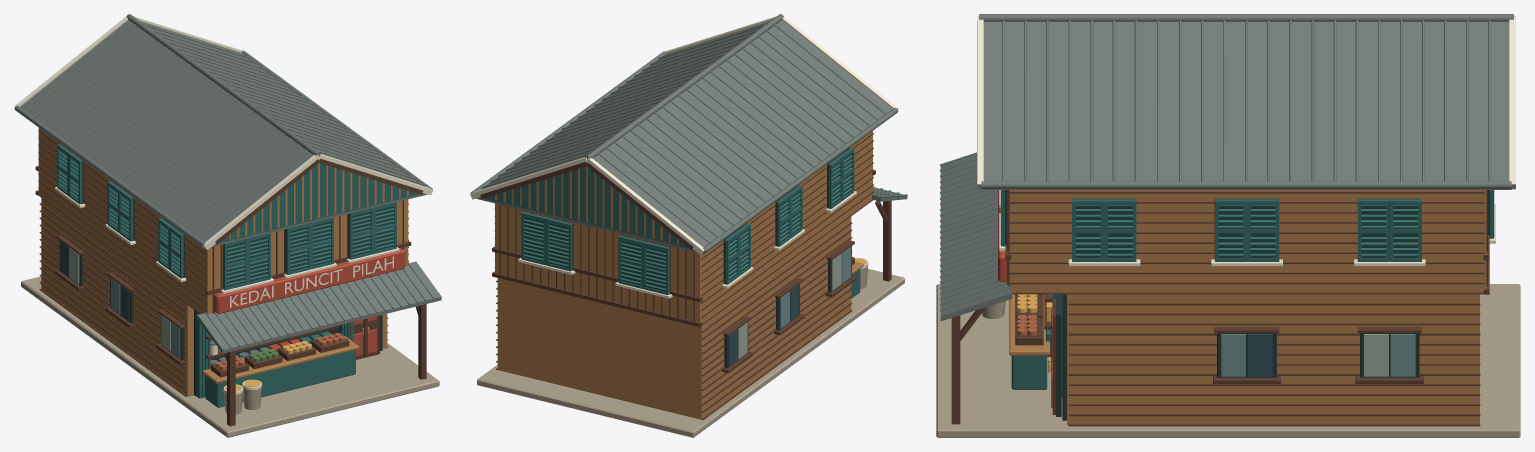
3 renders of one model, left to right at view 1: azimuth 30°, elevation 25°; view 2: azimuth 150°, elevation 25°; view 3: azimuth 270°, elevation 25°, orthographic. The views are drawn at different scales.
Visible parts, largest first — view 1: Pitched roof, Timber shop frame, Street canopy, Louvred shutters, Ground floor trade, Casements and sills, Raking bargeboards, Entrance joinery, Cast lettering; view 2: Timber shop frame, Pitched roof, Louvred shutters, Casements and sills, Raking bargeboards, Street canopy, Ground floor trade; view 3: Timber shop frame, Pitched roof, Louvred shutters, Street canopy, Casements and sills, Ground floor trade, Raking bargeboards, Entrance joinery.
Part boxes in pixels (bbox=[...]): Pitched roof: bbox=[14, 14, 432, 248]; Timber shop frame: bbox=[21, 128, 439, 437]; Street canopy: bbox=[197, 248, 441, 426]; Louvred shutters: bbox=[54, 144, 399, 293]; Ground floor trade: bbox=[194, 310, 382, 414]; Casements and sills: bbox=[55, 235, 186, 365]; Raking bargeboards: bbox=[14, 16, 433, 249]; Entrance joinery: bbox=[350, 315, 379, 359]; Cast lettering: bbox=[230, 256, 393, 307]; Timber shop frame: bbox=[477, 131, 904, 437]; Pitched roof: bbox=[470, 14, 898, 254]; Louvred shutters: bbox=[518, 147, 856, 298]; Casements and sills: bbox=[722, 240, 856, 373]; Raking bargeboards: bbox=[470, 16, 898, 254]; Street canopy: bbox=[872, 186, 907, 281]; Ground floor trade: bbox=[851, 257, 868, 298]; Timber shop frame: bbox=[936, 21, 1520, 437]; Pitched roof: bbox=[979, 14, 1513, 189]; Louvred shutters: bbox=[999, 190, 1495, 266]; Street canopy: bbox=[939, 152, 1012, 424]; Casements and sills: bbox=[1213, 327, 1423, 383]; Ground floor trade: bbox=[981, 294, 1066, 420]; Raking bargeboards: bbox=[977, 16, 1515, 189]; Entrance joinery: bbox=[1048, 295, 1061, 416].
Bounding box in the file's own units: 8.11 × 8.35 × 12.6.
